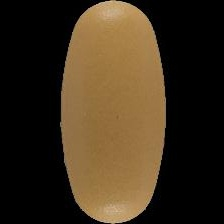65597-116: (0, 0, 224, 224)
